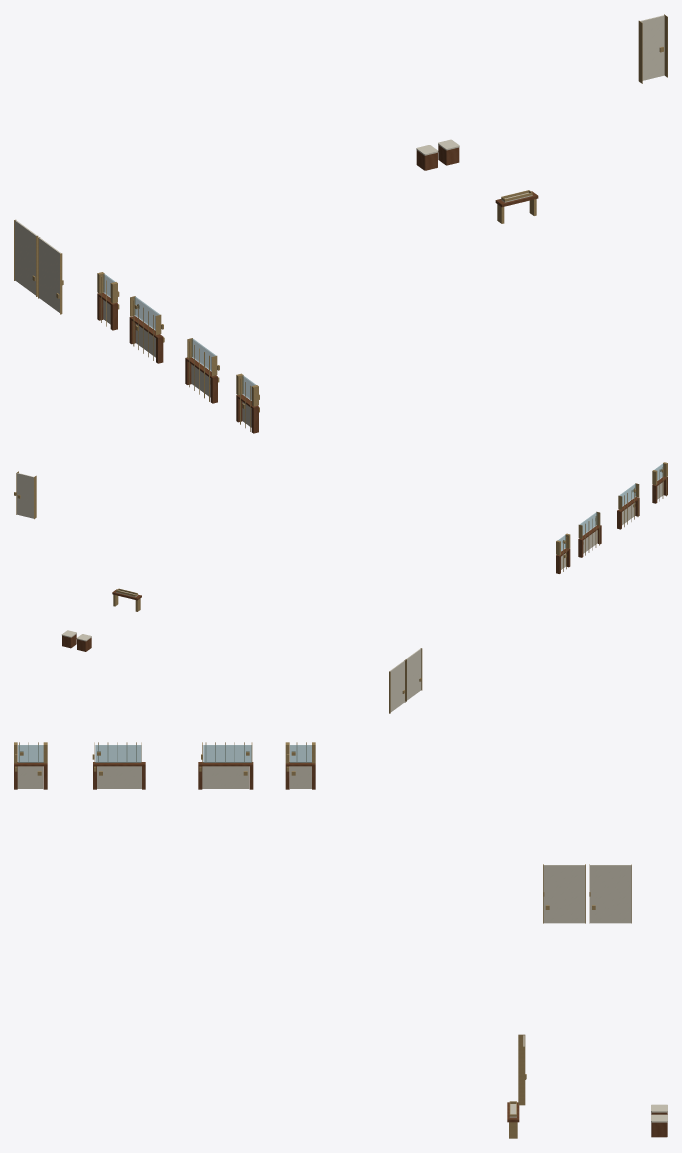
The model's file is D04_PHYSICAL_FITTINGS_r007.glb.
3 views of the same model, one above another, from view 1: azimuth 30°, elevation 25°; view 2: azimuth 150°, elevation 25°; view 3: azimuth 270°, elevation 25° (orthographic). The views are drawn at different scales.
Visible parts, largest first — view 1: D04PC_CourtSouth_Leaf, D04PC_StaffUsed_Leaf, D04PC_StaffClean_Leaf; view 2: D04PC_CourtSouth_Leaf, D04PC_StaffUsed_Leaf, D04PC_StaffClean_Leaf; view 3: D04PC_StaffClean_Leaf, D04PC_StaffUsed_Leaf, D04PC_Hatch_952_1_Leaf, D04PC_Hatch_928_0_Leaf, D04PC_ToolPane_952_1_Leaf, D04PC_ToolPane_928_0_Leaf, D04PC_Hatch_928_1_Leaf.
Boxes of the visible parts, bbox=[...] form: D04PC_CourtSouth_Leaf: bbox=[640, 15, 664, 80]; D04PC_StaffUsed_Leaf: bbox=[15, 220, 37, 295]; D04PC_StaffClean_Leaf: bbox=[39, 238, 60, 312]; D04PC_CourtSouth_Leaf: bbox=[17, 473, 33, 518]; D04PC_StaffUsed_Leaf: bbox=[389, 660, 404, 712]; D04PC_StaffClean_Leaf: bbox=[406, 648, 421, 700]; D04PC_StaffClean_Leaf: bbox=[543, 865, 585, 923]; D04PC_StaffUsed_Leaf: bbox=[590, 865, 631, 923]; D04PC_Hatch_952_1_Leaf: bbox=[202, 766, 249, 788]; D04PC_Hatch_928_0_Leaf: bbox=[97, 766, 141, 788]; D04PC_ToolPane_952_1_Leaf: bbox=[203, 745, 251, 762]; D04PC_ToolPane_928_0_Leaf: bbox=[95, 745, 141, 762]; D04PC_Hatch_928_1_Leaf: bbox=[17, 766, 43, 788].
Bounding box in the file's own units: 31.6 × 7.2 × 27.31.
4 materials, 3 textured.
